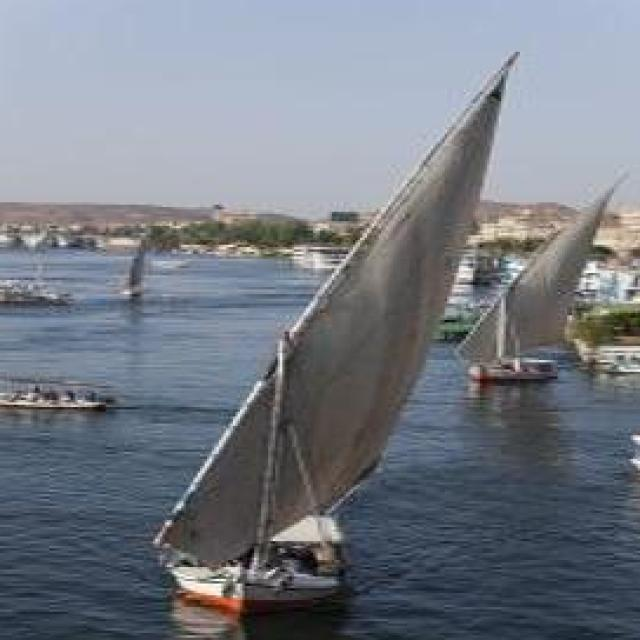houseboat: (0, 358, 111, 418), (621, 422, 640, 489)
sailboat: (153, 38, 522, 608), (459, 167, 628, 390), (106, 224, 154, 297)
